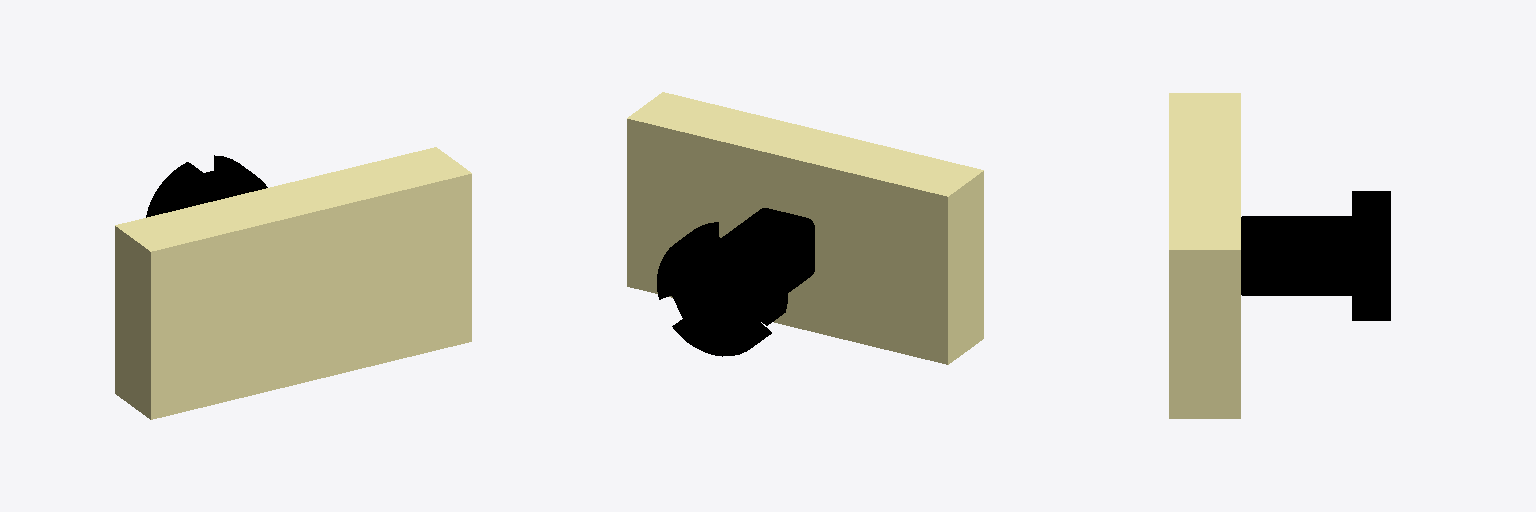
The model's file is Sponge.obj.
The picture shows the model from 3 angles: view 1: azimuth 30°, elevation 25°; view 2: azimuth 150°, elevation 25°; view 3: azimuth 270°, elevation 25°; orthographic projection.
Parts seen in each view (by area): view 1: Solid1; view 2: Solid1; view 3: Solid1.
Part boxes in pixels (x1,y1,x2,y2): Solid1: (115,147,471,419); Solid1: (627,92,983,364); Solid1: (1169,93,1390,418).
Size of the model in its own units: 200 by 100 by 120.